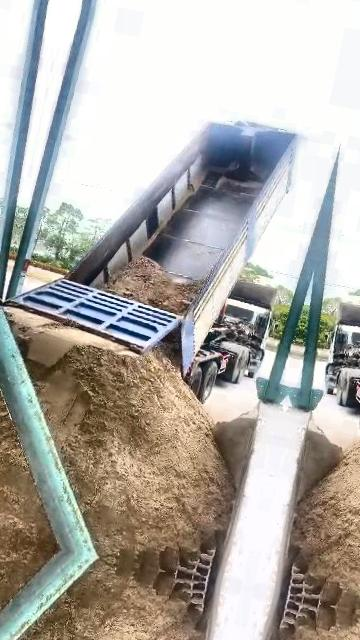sand: (30, 345, 234, 572), (0, 373, 54, 546), (5, 307, 135, 377), (105, 257, 200, 314), (214, 411, 256, 488), (162, 329, 179, 365)
